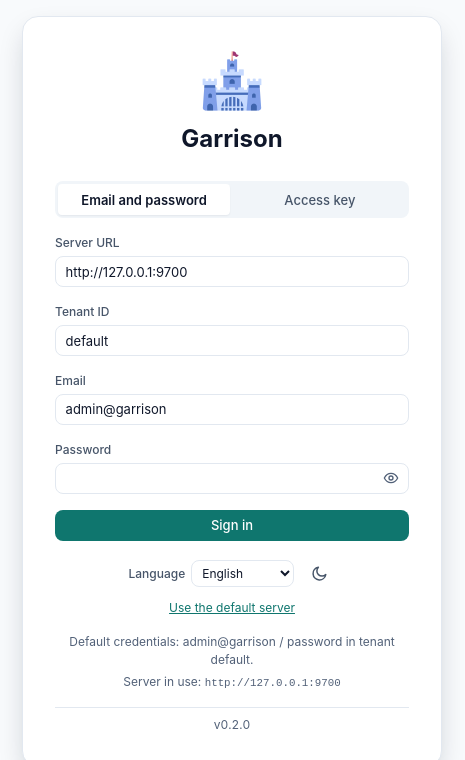
Test case: sign-in page › Use the default server hides the field again
Expected: the field with id "serverUrl" holds "http://127.0.0.1:9700", [55,256,409,287]
Click the button with test id "login-use-default-server" at (232, 608), box [169,599,295,617]
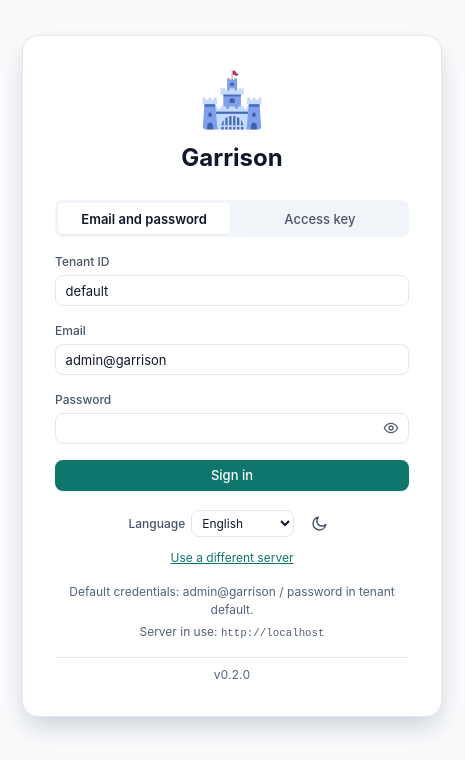
Now the label with id "serverUrl" is gone
